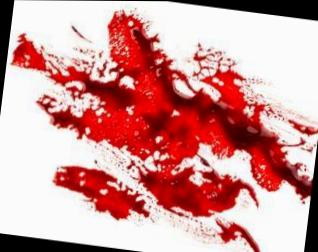Fire: (12, 10, 318, 252)
